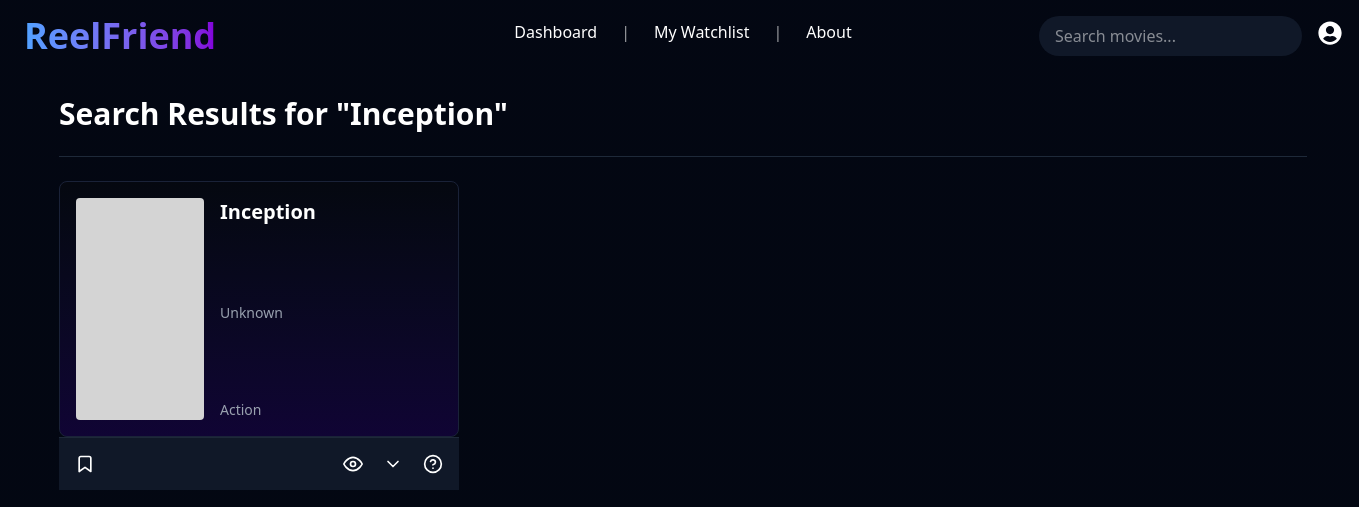
Test case: SearchResultsPage › opens and cancels rating modal
Expected: the heading "Inception" is shown, [220,198,316,225]
Click the button titled "I've Watched This" at x=353, y=464, box [335,446,371,482]
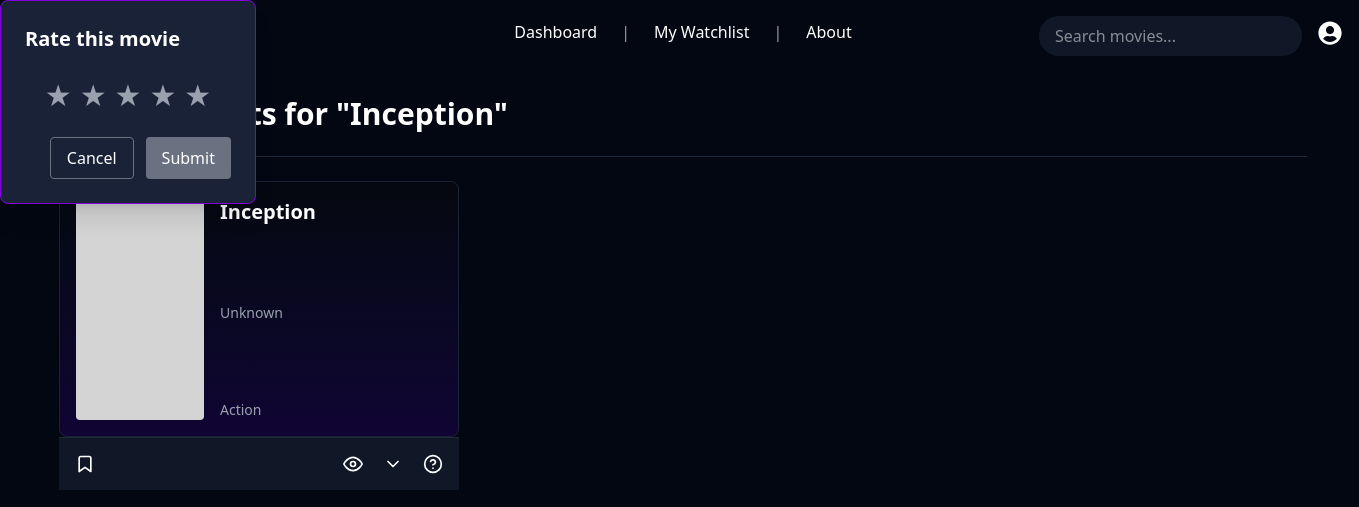
Expected: the heading "Rate this movie" is shown, [25,25,180,52]
Click the button "Cancel" at x=92, y=158, box [50,137,134,179]
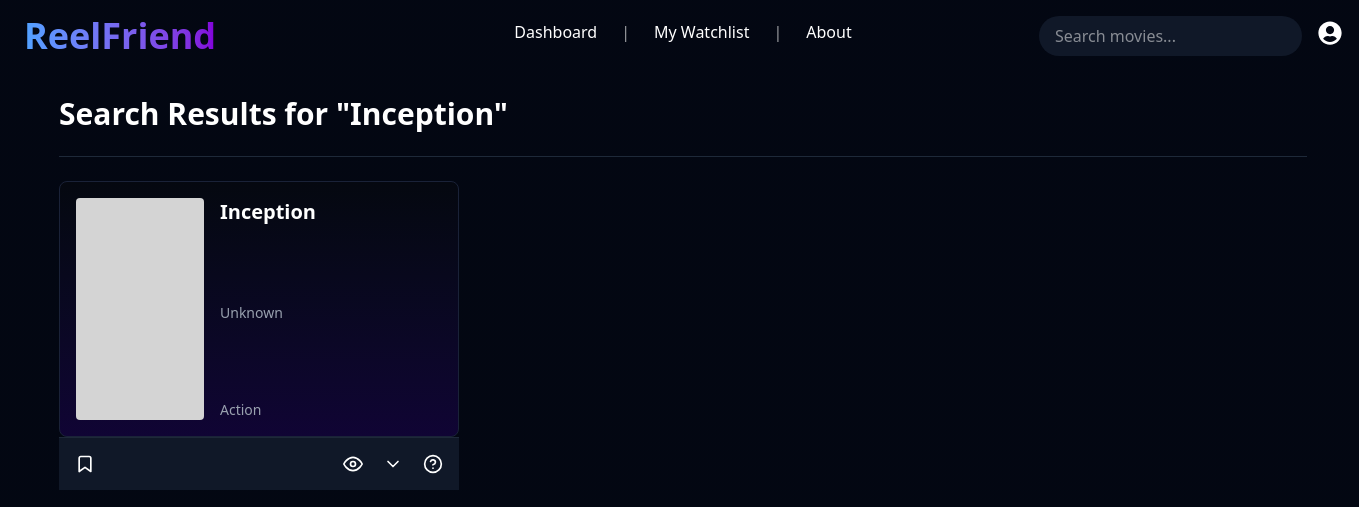
Expected: the heading "Rate this movie" is gone
